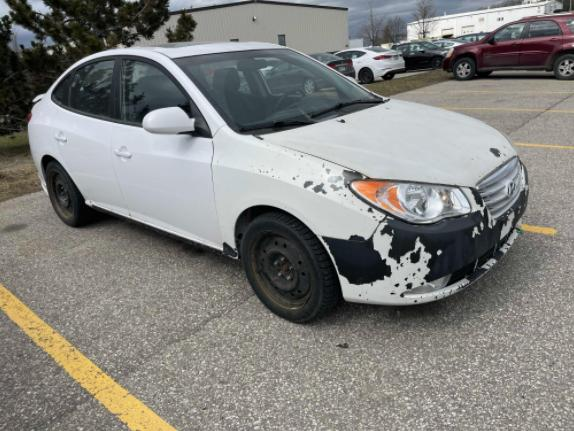Back-bumper: (38, 172, 49, 196)
Back-door: (52, 55, 129, 215)
Back-wheel: (46, 161, 92, 227)
Back-window: (68, 59, 115, 117), (53, 70, 73, 105)
Fender: (212, 124, 387, 259)
Front-bumper: (316, 157, 529, 305)
Front-door: (110, 55, 222, 248)
Front-wheel: (241, 212, 340, 324)
Front-window: (120, 58, 212, 137)
Grille: (448, 225, 515, 285), (475, 155, 521, 215)
Headlight: (349, 179, 471, 224), (403, 273, 453, 294), (500, 131, 517, 155)
Hood: (252, 99, 517, 188)
Mirror: (142, 106, 211, 136)
Quarter-panel: (28, 93, 92, 206)
Rocker-panel: (91, 201, 222, 254)
Roof: (100, 42, 290, 58)
Windshield: (171, 49, 384, 135)
